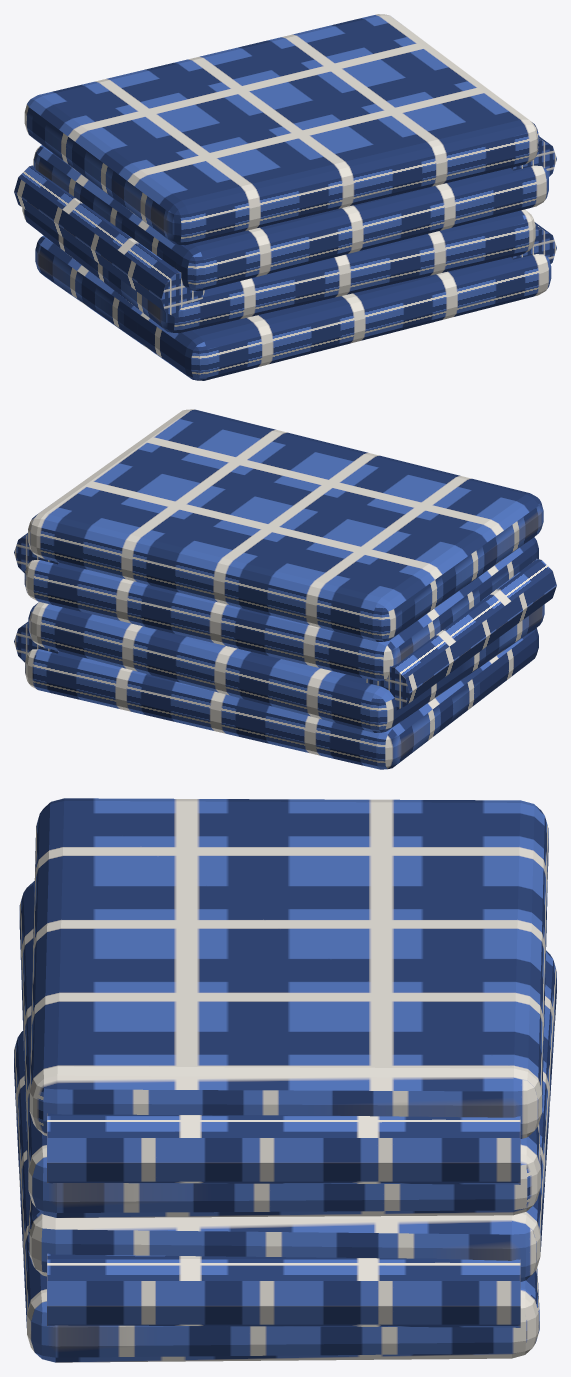
Rendered from Cobertor.fbx.
The picture shows the model from 3 angles, top to bottom: view 1: azimuth 30°, elevation 25°; view 2: azimuth 150°, elevation 25°; view 3: azimuth 270°, elevation 25°; orthographic projection. The views are drawn at different scales.
Visible parts, largest first — view 1: Cobertor; view 2: Cobertor; view 3: Cobertor.
Part boxes in pixels (left/top/right/bottom): Cobertor: left=14, top=14, right=556, bottom=380; Cobertor: left=14, top=409, right=556, bottom=769; Cobertor: left=14, top=798, right=556, bottom=1362.
Bounding box in the file's own units: 0.4188 × 0.179 × 0.3094.
Materials: 1 (1 with a texture image).
